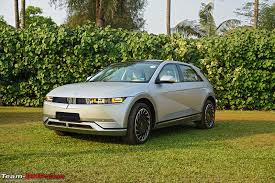Honda Ioniq: (36, 56, 220, 151)
